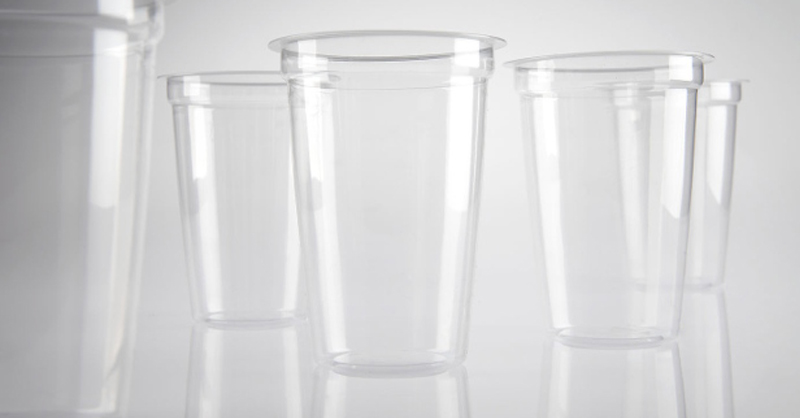plastic_bottle: (498, 44, 718, 351)
